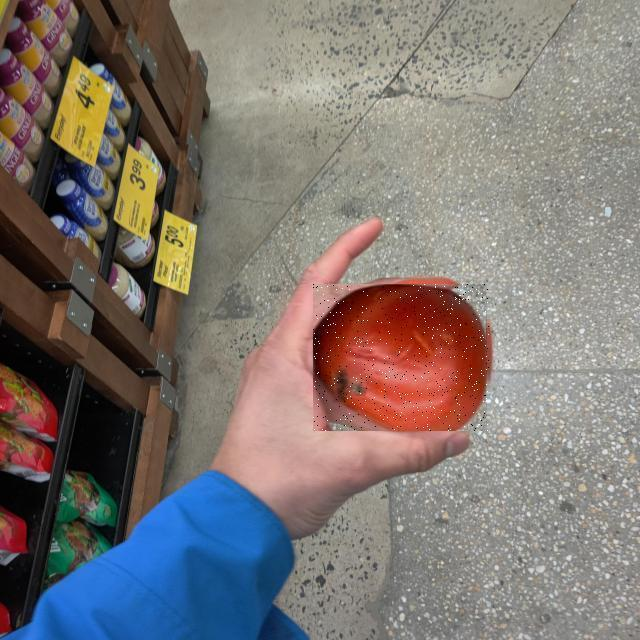Tomatoes: (314, 284, 490, 431)
